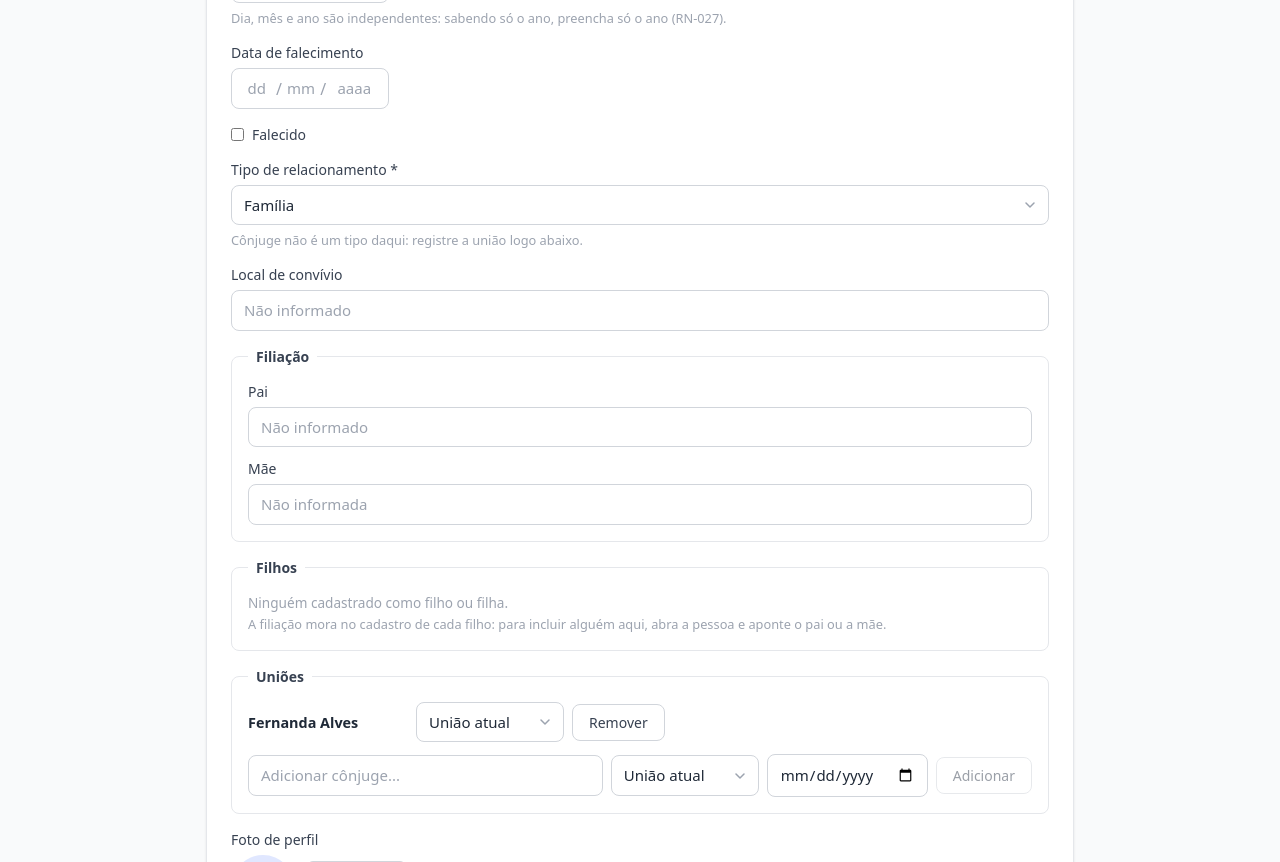
Test: PersonFormPage — edição › a própria pessoa não aparece como pai nem como mãe
(page scrolled)
Step 1. Click the dropdown labelled "Pai" → (640, 427), box top-left (248, 407), bottom-right (1032, 447)
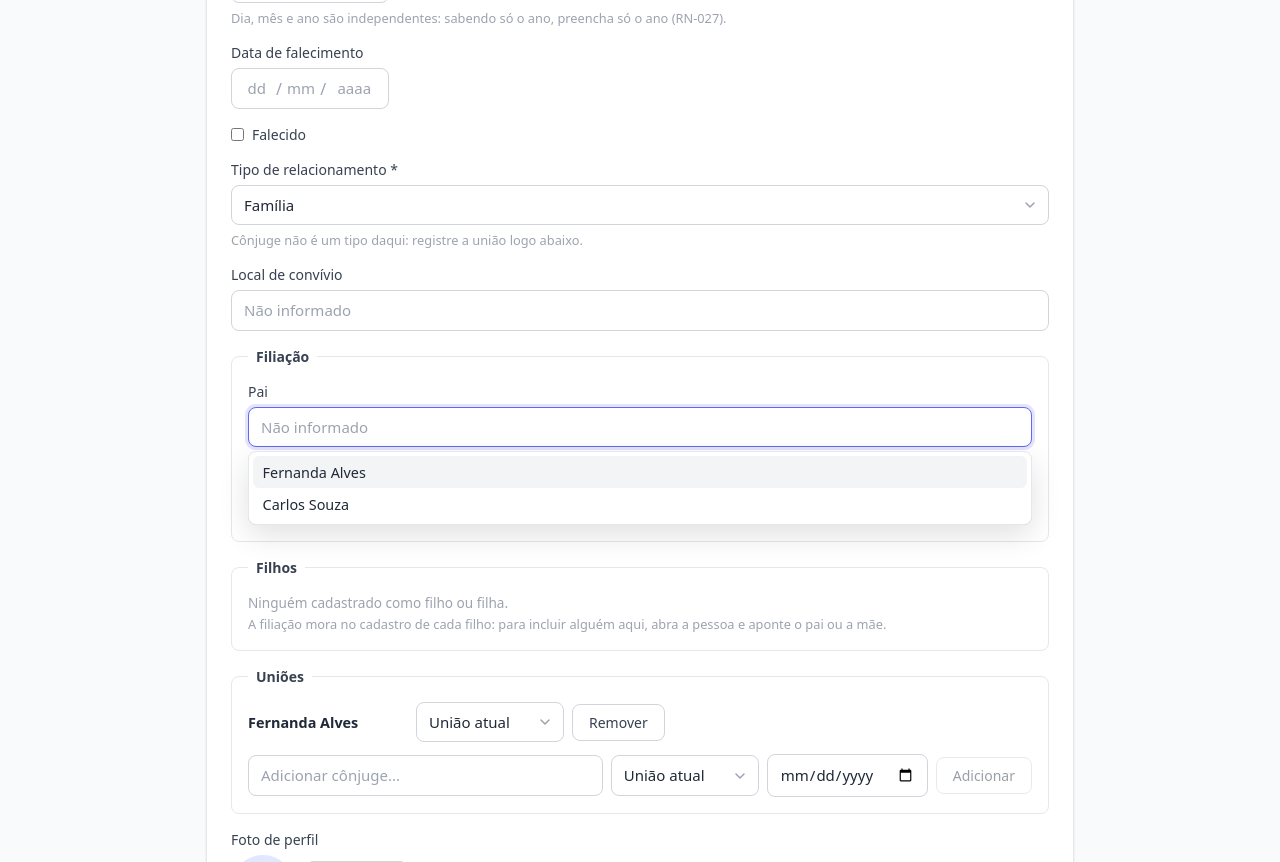
Result: the text "Carlos Souza" is shown at top-left (263, 495), bottom-right (349, 514)
